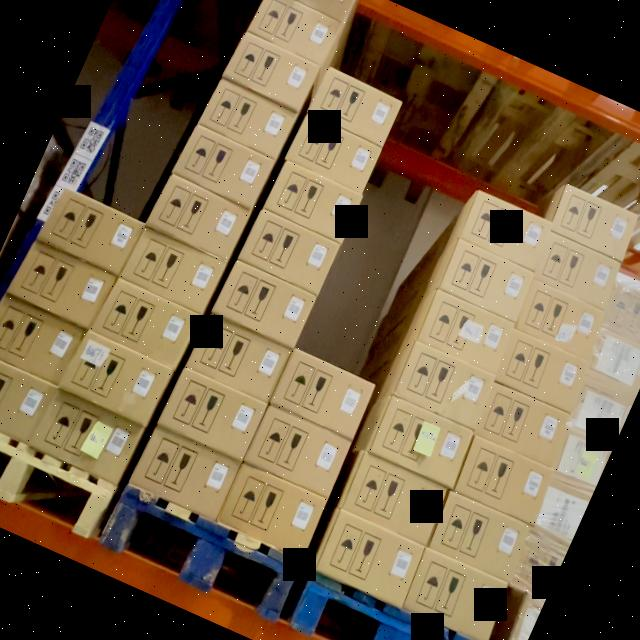box: (218, 465, 326, 557), (245, 405, 351, 496), (342, 454, 448, 543), (66, 332, 170, 422), (159, 371, 264, 460), (316, 514, 421, 602), (404, 552, 508, 640), (132, 432, 236, 516), (429, 494, 532, 578), (188, 317, 289, 402), (36, 394, 138, 478), (370, 401, 472, 484), (273, 352, 373, 436), (418, 295, 516, 380), (98, 282, 198, 364), (126, 230, 224, 312), (216, 264, 314, 345), (239, 212, 338, 292), (44, 190, 140, 272), (175, 126, 271, 208), (264, 162, 362, 242), (456, 443, 554, 520), (479, 388, 574, 466), (440, 240, 536, 317), (396, 350, 491, 427), (289, 115, 382, 193), (201, 81, 294, 159), (499, 334, 594, 410), (15, 247, 109, 323), (310, 68, 402, 144), (154, 182, 246, 257), (519, 282, 608, 356), (229, 34, 317, 108), (463, 193, 552, 266), (0, 300, 79, 381), (251, 0, 340, 66), (554, 190, 638, 258), (538, 238, 620, 306), (0, 351, 48, 440)
